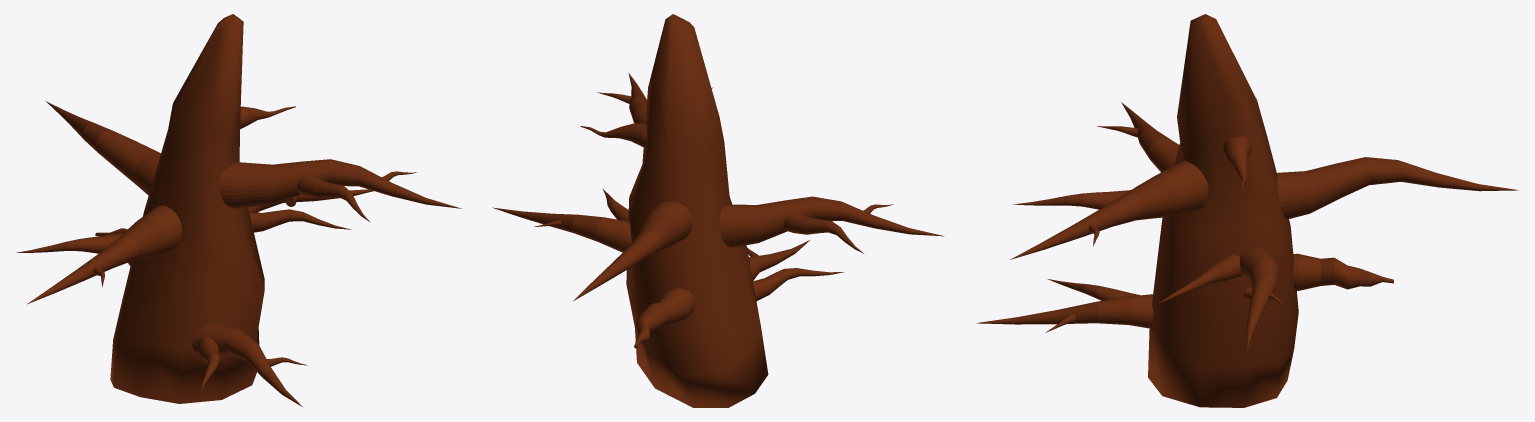
File: Arbol.fbx
The picture shows the model from 3 angles, left to right: view 1: azimuth 30°, elevation 25°; view 2: azimuth 150°, elevation 25°; view 3: azimuth 270°, elevation 25°; orthographic projection. The views are drawn at different scales.
Parts seen in each view (by area): view 1: Cylinder.009; view 2: Cylinder.009; view 3: Cylinder.009.
Part boxes in pixels (x1,y1,x2,y2): Cylinder.009: [16, 14, 462, 406]; Cylinder.009: [492, 14, 944, 407]; Cylinder.009: [976, 14, 1518, 407].
Size of the model in its own units: 1789 by 1516 by 1890.
Materials: 1 (1 with a texture image).
